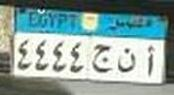4: (70, 40, 84, 75), (51, 40, 66, 72), (17, 37, 31, 70), (35, 38, 48, 72)
alif: (144, 44, 156, 77)
jeem: (88, 45, 113, 74)
noon: (117, 46, 138, 73)
